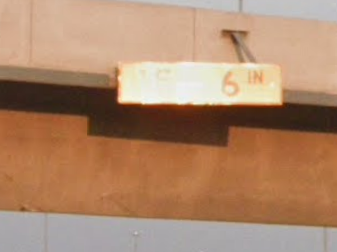1: (134, 65, 149, 102)
5: (151, 66, 178, 104)
6: (215, 66, 242, 102)
overheadsign: (116, 58, 284, 110)
